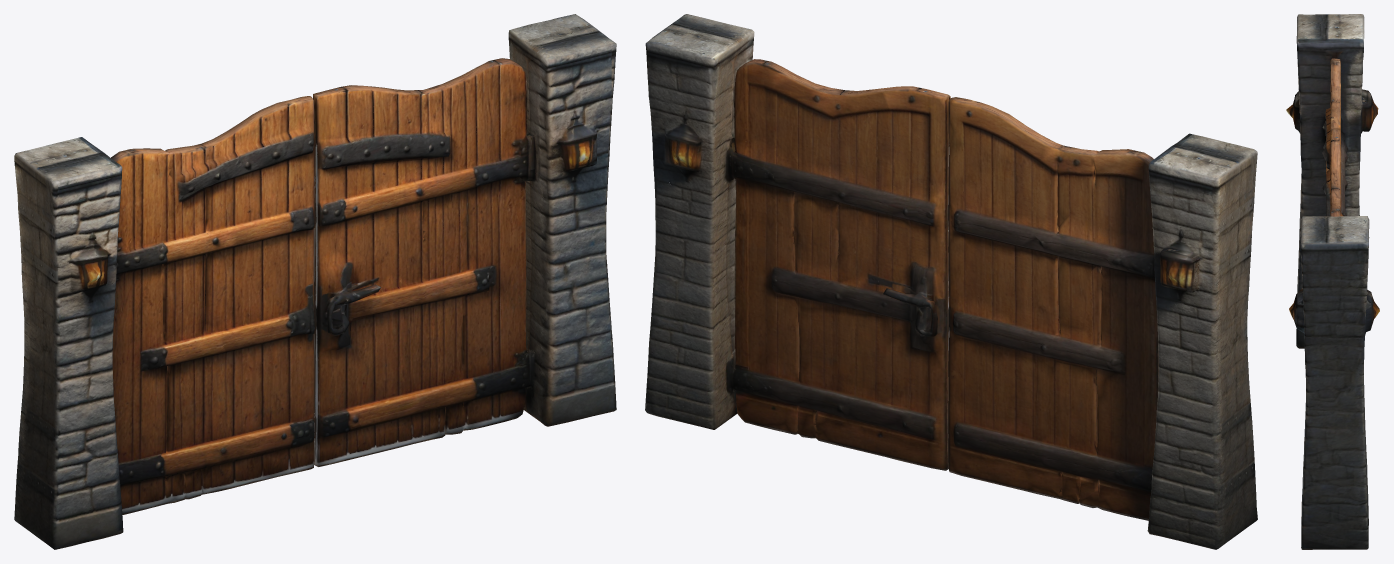
The model's file is 3d_in_medieval_style__0510205923_texture.fbx.
The picture shows the model from 3 angles, left to right: view 1: azimuth 30°, elevation 25°; view 2: azimuth 150°, elevation 25°; view 3: azimuth 270°, elevation 25°; orthographic projection. The views are drawn at different scales.
Visible parts, largest first — view 1: Mesh1; view 2: Mesh1; view 3: Mesh1.
Part boxes in pixels (x1,y1,x2,y2): Mesh1: (14, 14, 616, 549); Mesh1: (645, 14, 1257, 549); Mesh1: (1286, 14, 1379, 549).
Bounding box in the file's own units: 200 × 125 × 34.44.
1 material, 1 textured.
